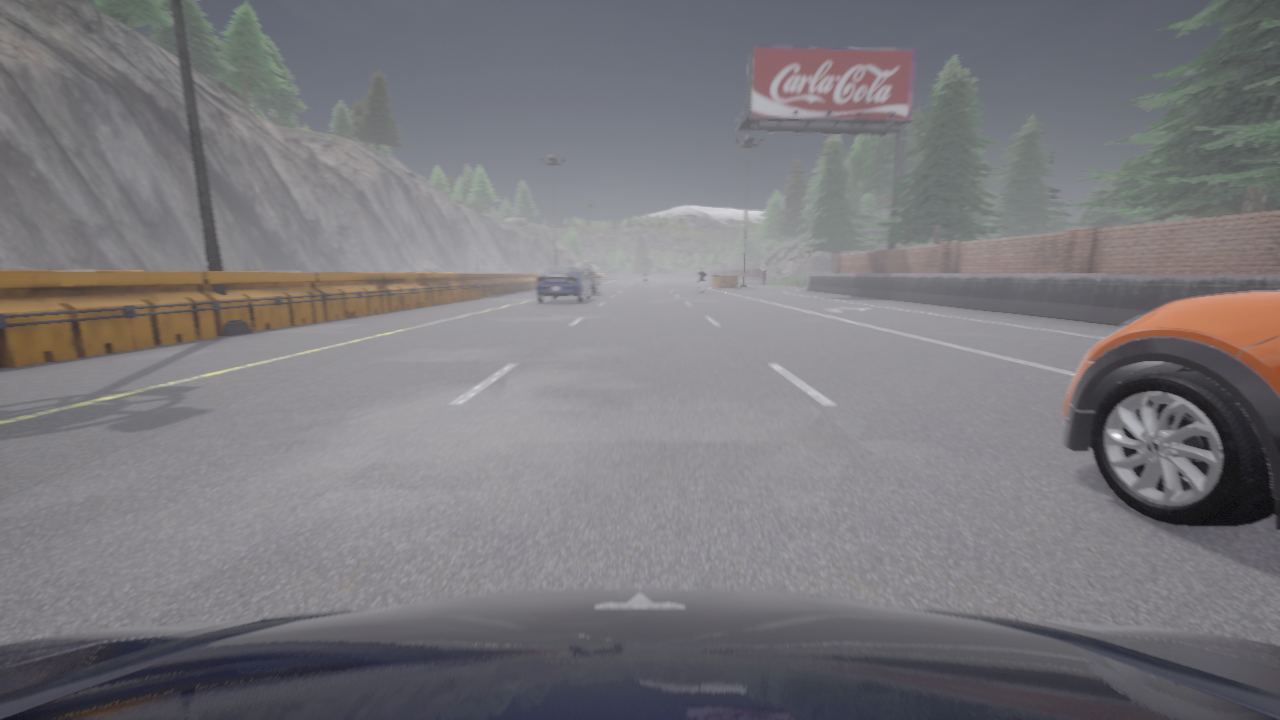cyclist: (0, 588, 1279, 719), (1061, 291, 1279, 531), (535, 266, 591, 302), (579, 268, 600, 295), (698, 276, 705, 293), (643, 275, 647, 284)
